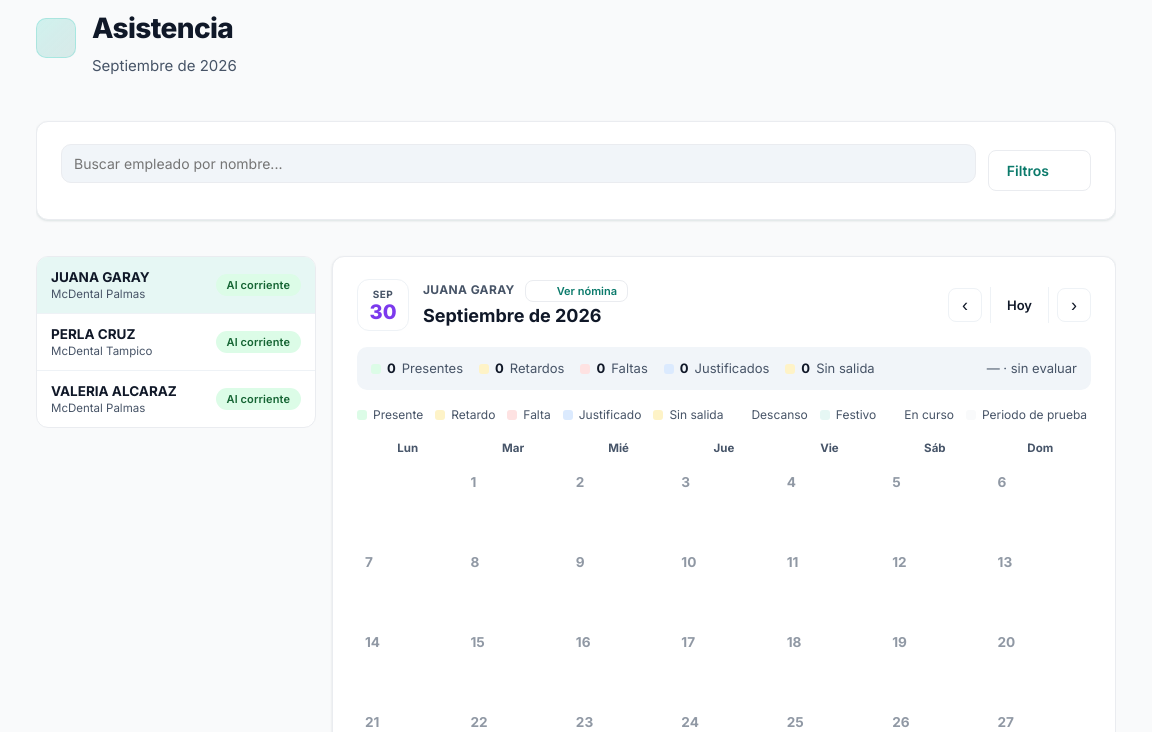
AsistenciaPanel · filtro de sucursal › el contador de Filtros marca 1 cuando hay una sucursal elegida
Click the button "Filtros" at (1039, 170), box [988,150,1091,191]
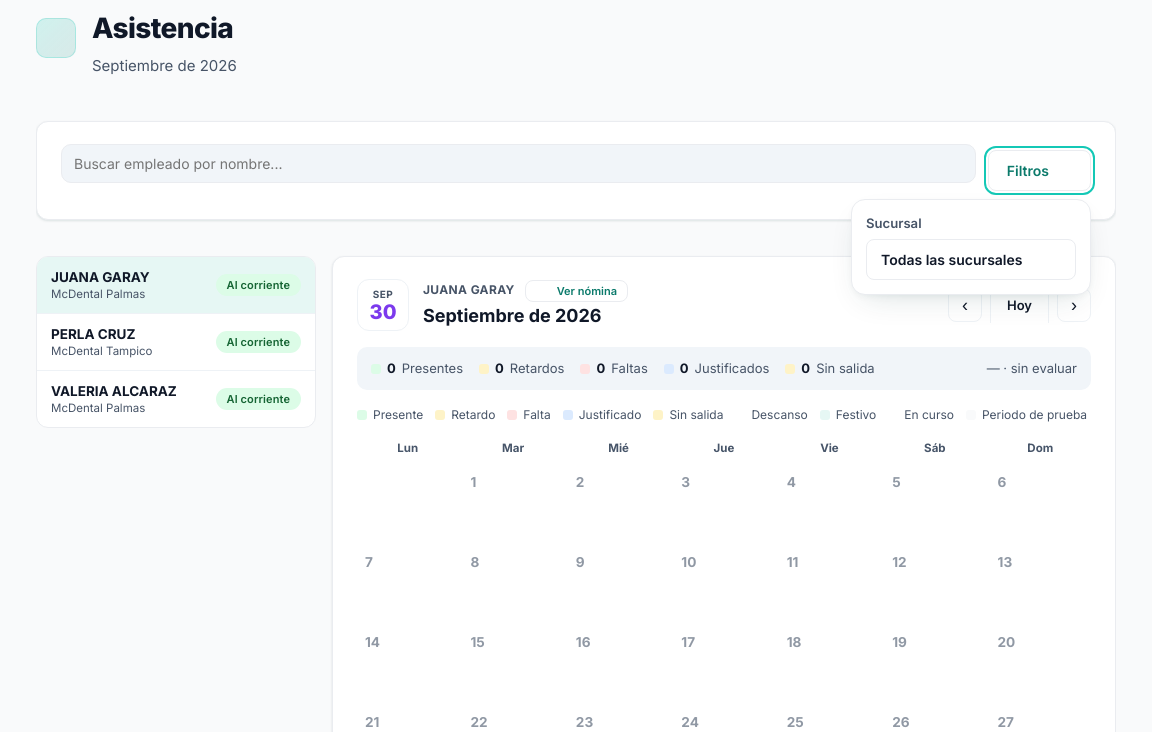
Click the button "Todas las sucursales" at (971, 259), box [866,238,1076,280]
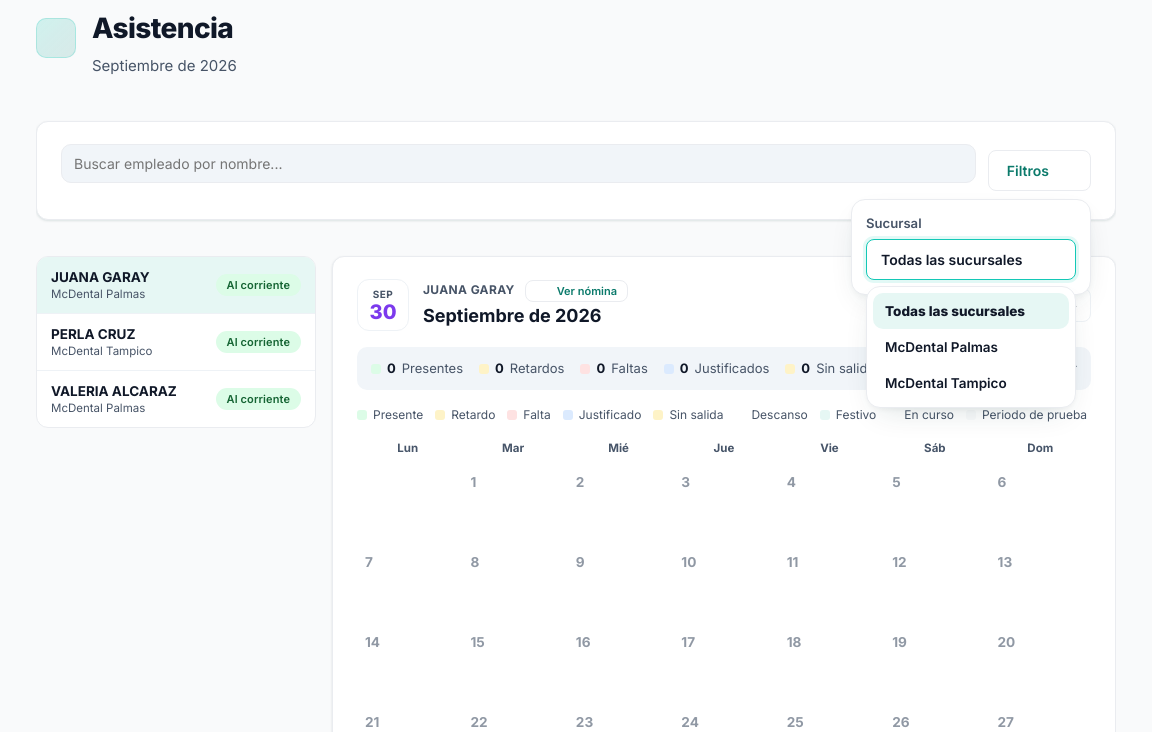
Click the option "McDental Palmas" at (971, 346), box [873,328,1069,364]
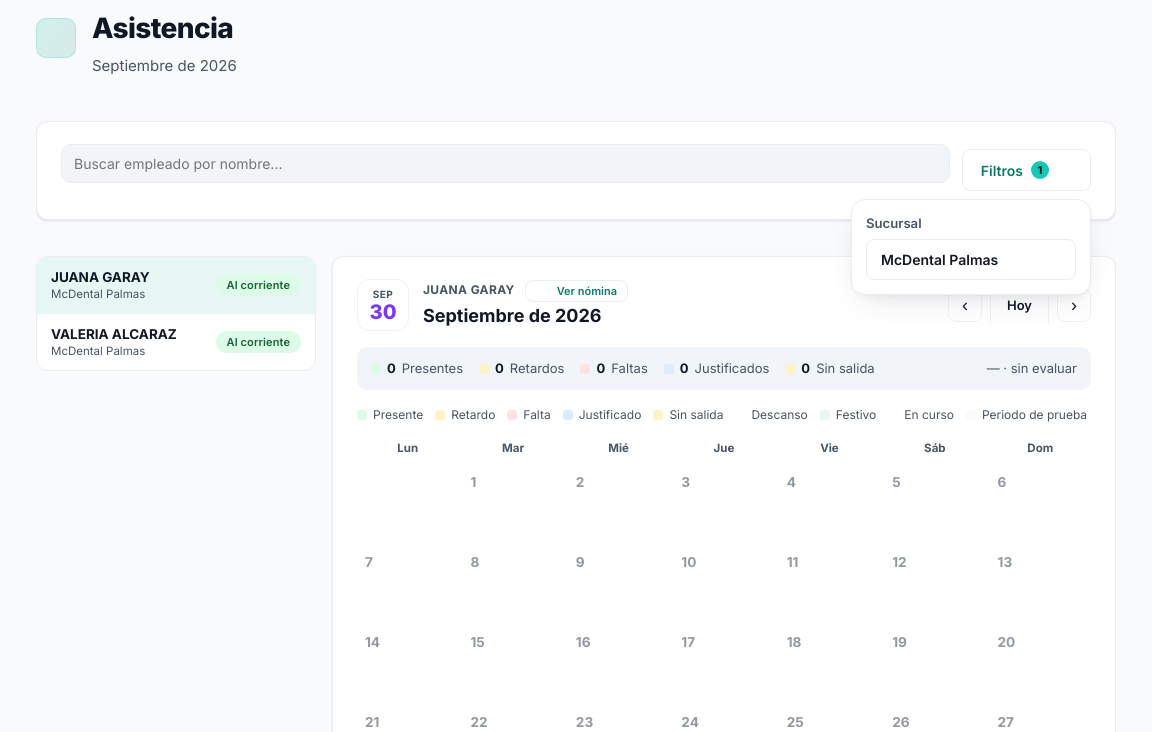
Now the 1st text "1" is shown, box [1031,161,1049,179]
